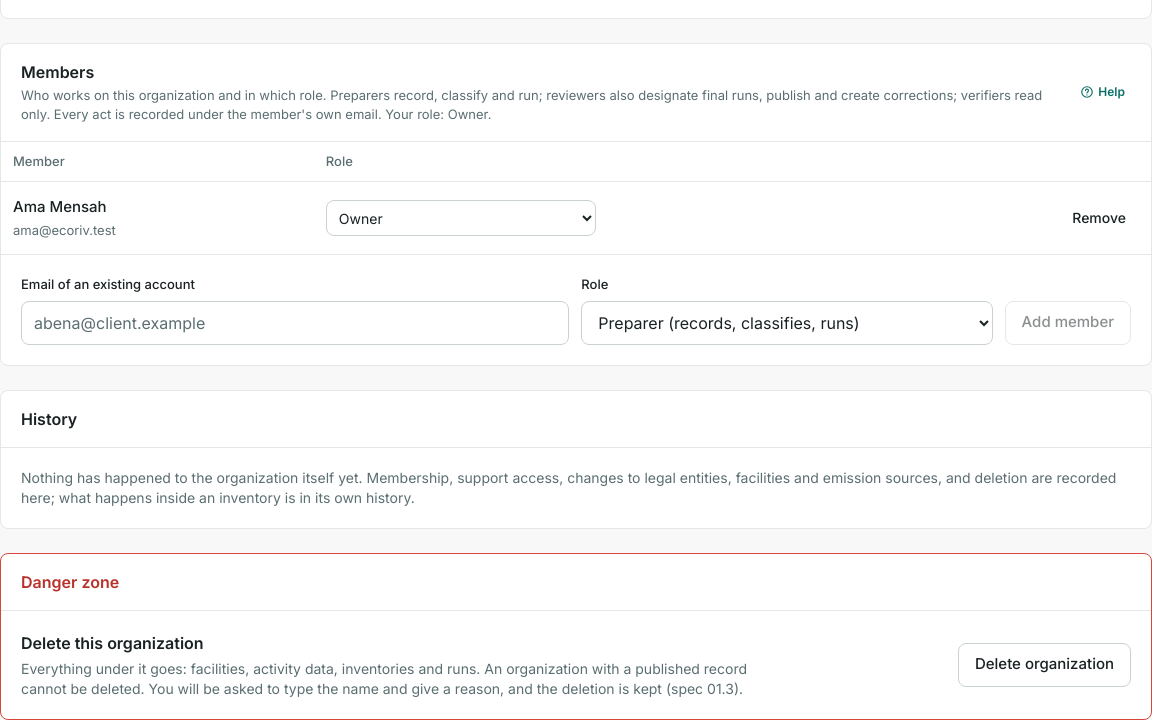
Test: the delete dialog lists the inventories that keep the organization on file (spec 01.3)
(page scrolled)
Click the button "Delete organization".
click(1044, 664)  # box [958, 642, 1131, 686]
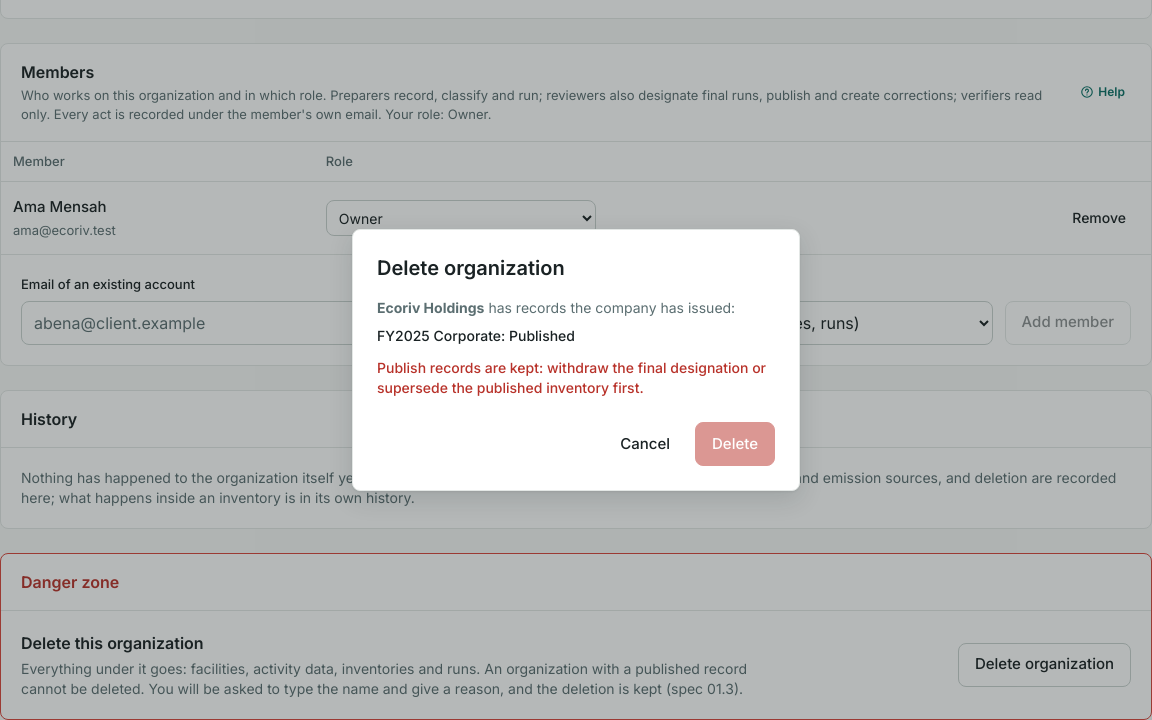
Expected: the list item "FY2025 Corporate: Published" is shown, [377, 327, 575, 344]
Expected: the text "Publish records are kept: withdraw the final designation or supersede the published inventory first." is shown, [377, 359, 766, 396]
Expected: the button "Delete" is disabled, [695, 422, 775, 466]
